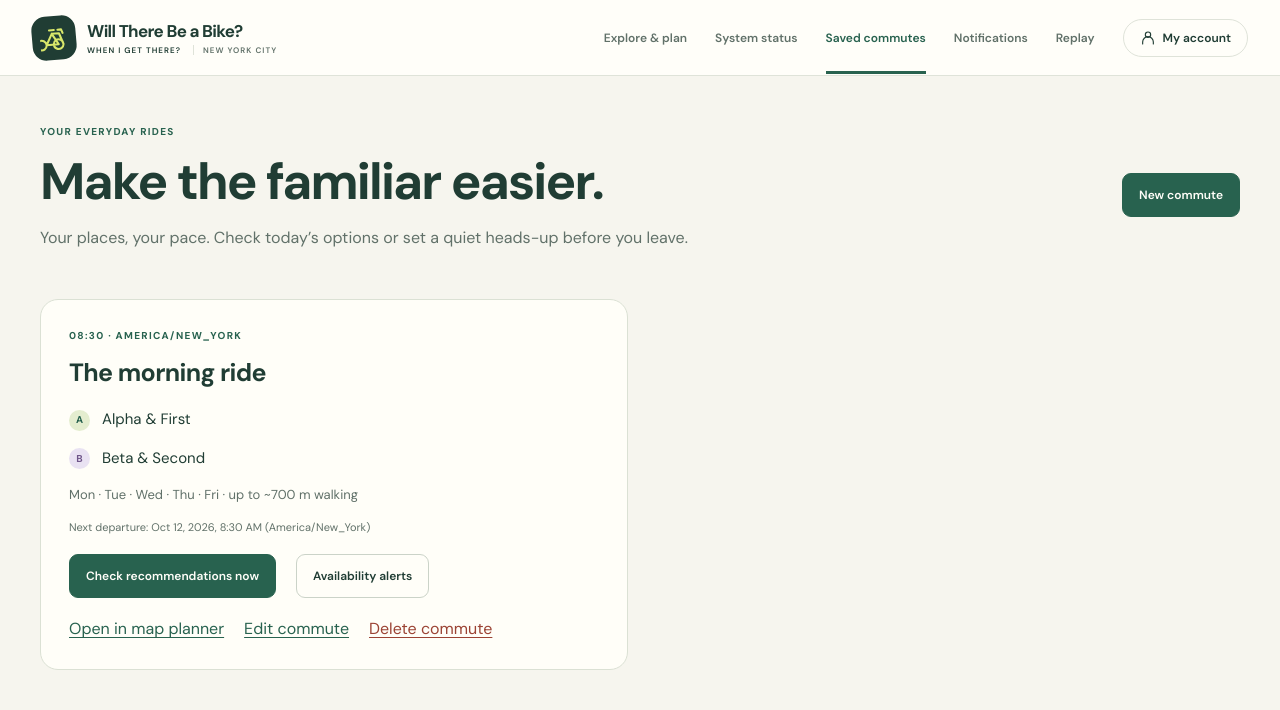
uses backend-ranked current recommendations directly on a saved commute
Click the button "Check recommendations now".
click(172, 576)  # box [69,554,276,598]
(page scrolled)
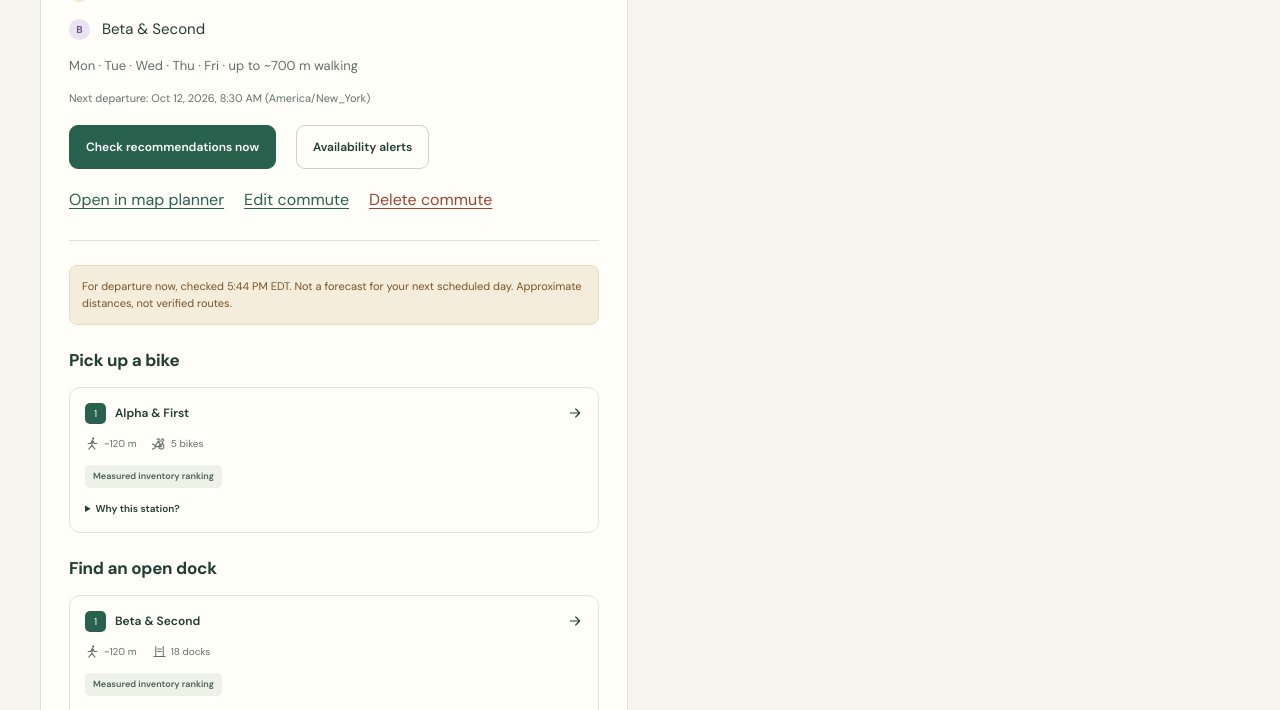
Check: the text "Not a forecast for your next scheduled day" is shown, box [82,279,582,310]
Check: the heading "Pick up a bike" is shown, box [69,349,179,371]
